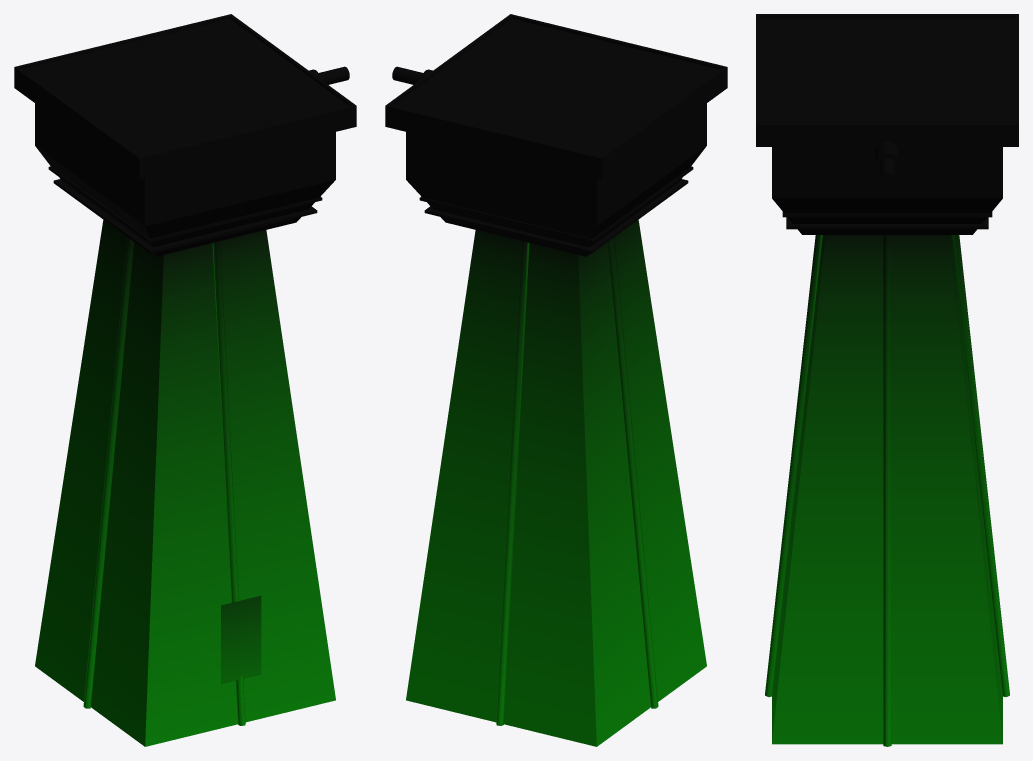
Rendered from guntower.glb.
3 renders of one model, left to right at view 1: azimuth 30°, elevation 25°; view 2: azimuth 150°, elevation 25°; view 3: azimuth 270°, elevation 25°, orthographic. The views are drawn at different scales.
Parts seen in each view (by area): view 1: lod0_Base; view 2: lod0_Base; view 3: lod0_Base, lod0_Turret.
Part boxes in pixels (x1=…): lod0_Base: x1=14, y1=14, x2=356, y2=746; lod0_Base: x1=385, y1=14, x2=727, y2=746; lod0_Base: x1=756, y1=14, x2=1018, y2=746; lod0_Turret: x1=875, y1=141, x2=899, y2=185.
Bounding box in the file's own units: 5.36 × 11.36 × 4.32.
